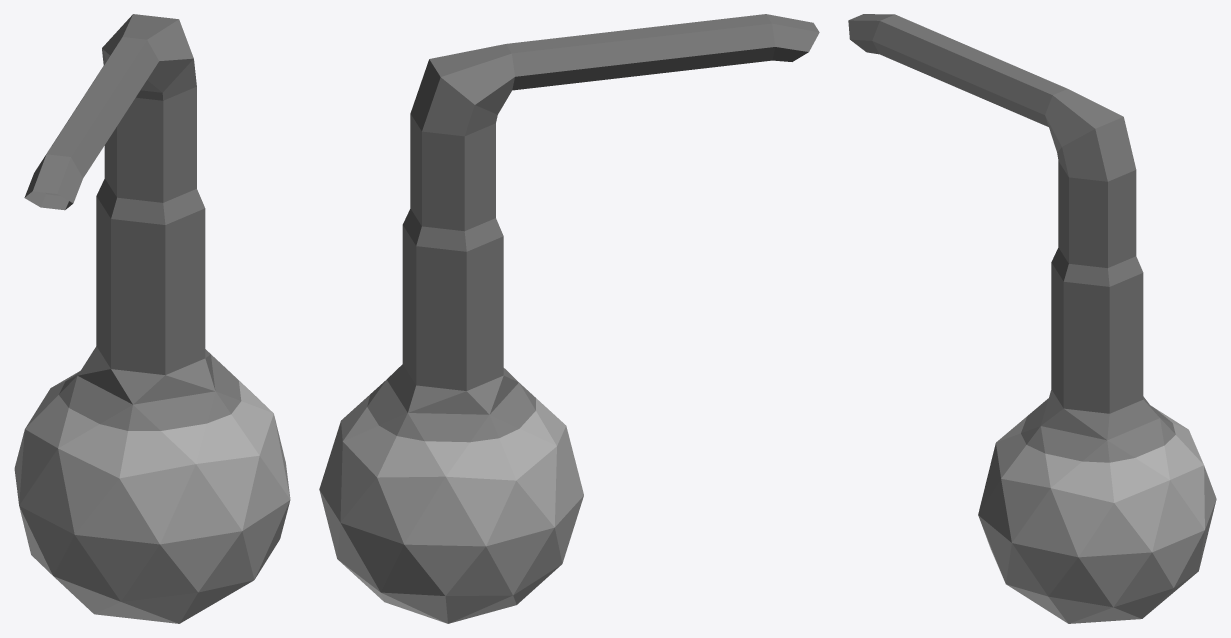
Rendered from alchemist_aparatus_749x17.gltf.
3 renders of one model, left to right at view 1: azimuth 30°, elevation 25°; view 2: azimuth 150°, elevation 25°; view 3: azimuth 270°, elevation 25°, orthographic. The views are drawn at different scales.
Parts seen in each view (by area): view 1: alchemist_aparatus_749x17; view 2: alchemist_aparatus_749x17; view 3: alchemist_aparatus_749x17.
Boxes of the visible parts, x1,y1,x2,y2 form: alchemist_aparatus_749x17: (14,14,290,623); alchemist_aparatus_749x17: (319,14,819,623); alchemist_aparatus_749x17: (848,14,1216,623).
Bounding box in the file's own units: 0.803 × 1.21 × 0.7967.
2 materials, 2 textured.
